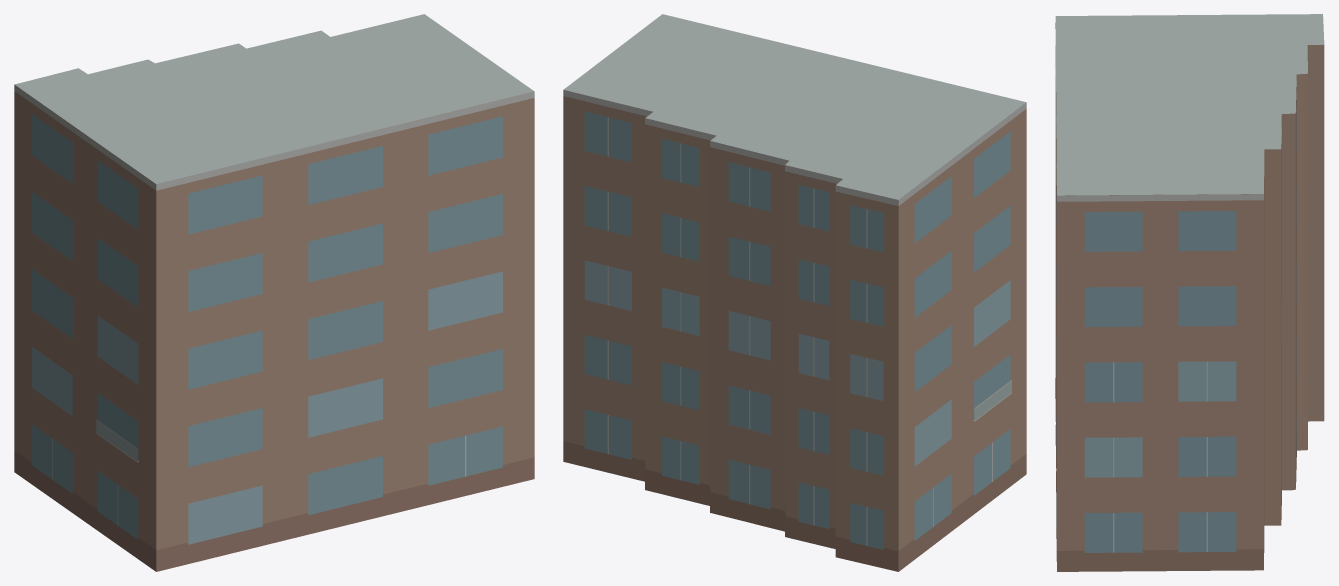
File: survey-upis-32871542.glb
3 views of the same model, side by side, from view 1: azimuth 30°, elevation 25°; view 2: azimuth 150°, elevation 25°; view 3: azimuth 270°, elevation 25° (orthographic). The views are drawn at different scales.
Visible parts, largest first — view 1: survey-upis-32871542.tmp; view 2: survey-upis-32871542.tmp; view 3: survey-upis-32871542.tmp.
Boxes of the visible parts, <box> form: survey-upis-32871542.tmp: <box>14,14,534,571</box>; survey-upis-32871542.tmp: <box>563,14,1026,571</box>; survey-upis-32871542.tmp: <box>1055,14,1324,571</box>.
Bounding box in the file's own units: 15.11 × 14.6 × 9.46.
